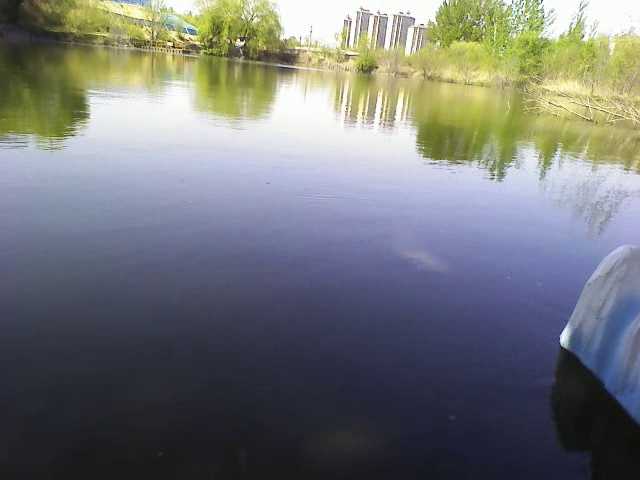iceberg: (555, 236, 638, 427)
